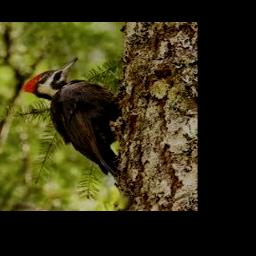Woodpecker: (23, 57, 122, 178)
